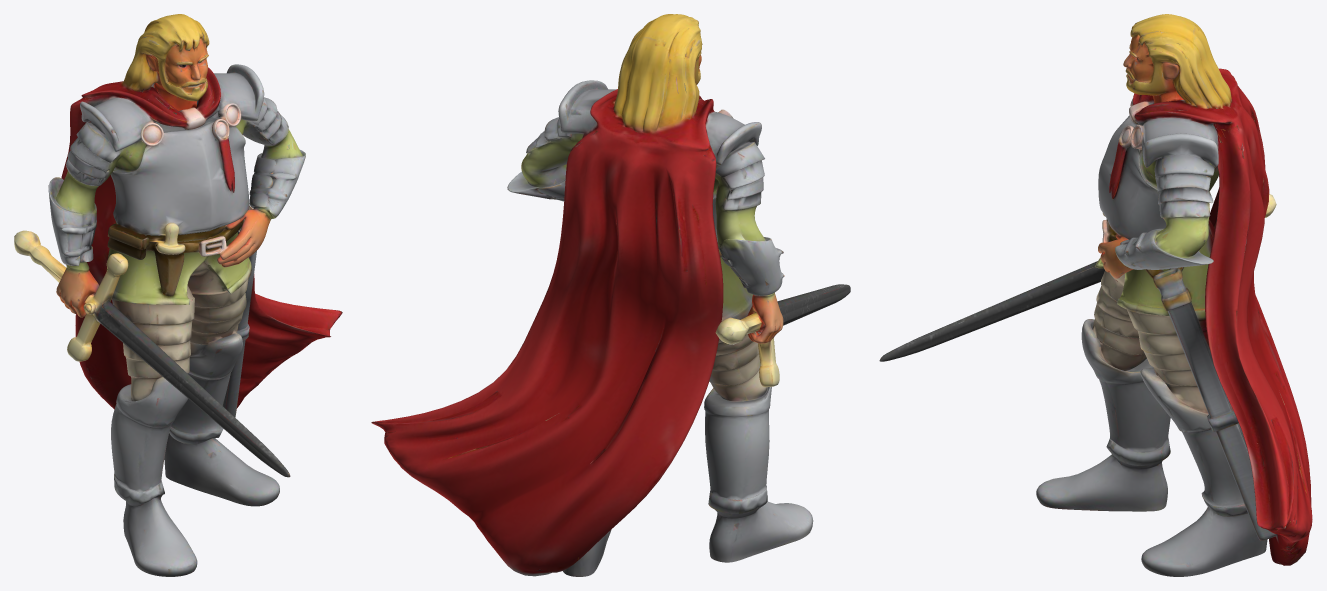
File: MZ4250 - Nighthill.glb
The picture shows the model from 3 angles, left to right: view 1: azimuth 30°, elevation 25°; view 2: azimuth 150°, elevation 25°; view 3: azimuth 270°, elevation 25°; orthographic projection. The views are drawn at different scales.
Visible parts, largest first — view 1: default; view 2: default; view 3: default.
Boxes of the visible parts, left/top/right/bottom form: default: left=14, top=14, right=342, bottom=576; default: left=371, top=14, right=850, bottom=576; default: left=879, top=14, right=1312, bottom=576.
Size of the model in its own units: 0.7154 by 1 by 0.7744.
Materials: 1 (1 with a texture image).
